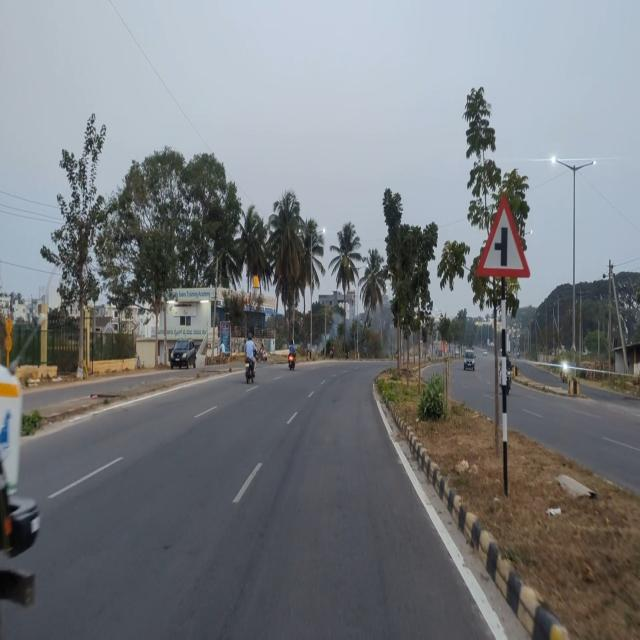bien_cam: (475, 190, 532, 282)
